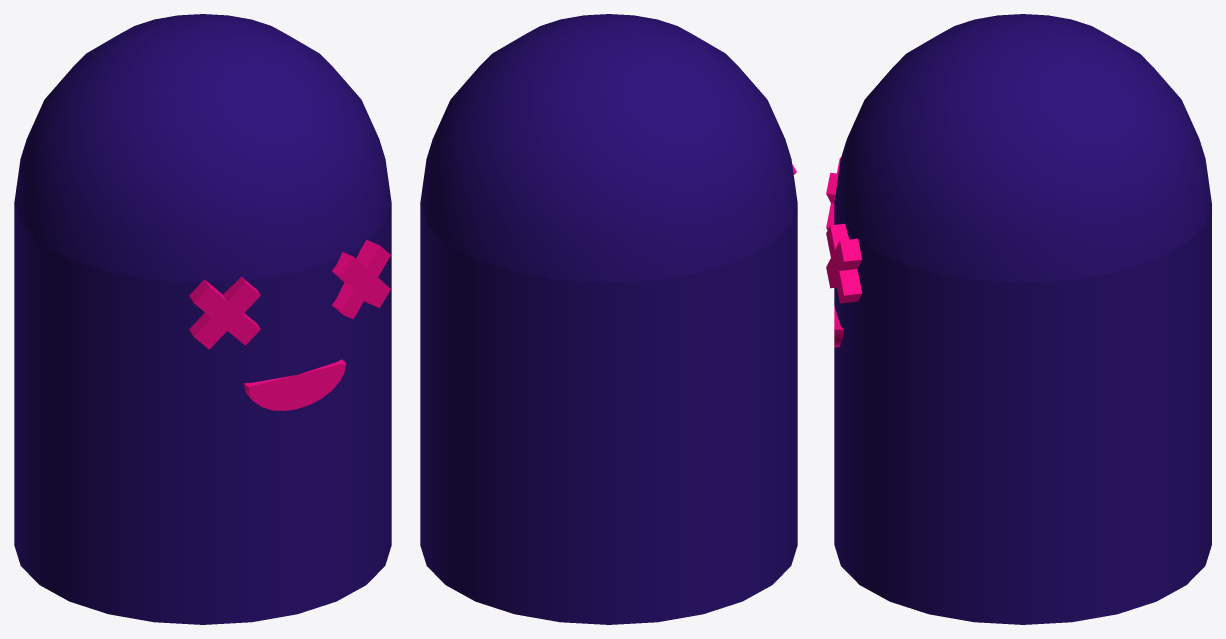
The model's file is Ghost Model Classic.fbx.
3 renders of one model, left to right at view 1: azimuth 30°, elevation 25°; view 2: azimuth 150°, elevation 25°; view 3: azimuth 270°, elevation 25°, orthographic.
Parts seen in each view (by area): view 1: mergedBlocks; view 2: mergedBlocks; view 3: mergedBlocks.
Boxes of the visible parts, bbox=[...] form: mergedBlocks: bbox=[14, 14, 391, 624]; mergedBlocks: bbox=[420, 14, 797, 624]; mergedBlocks: bbox=[826, 14, 1211, 624].
Bounding box in the file's own units: 10 × 15 × 10.22.
